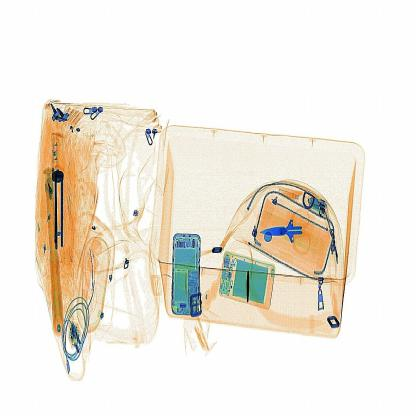gun: (254, 195, 323, 265)
